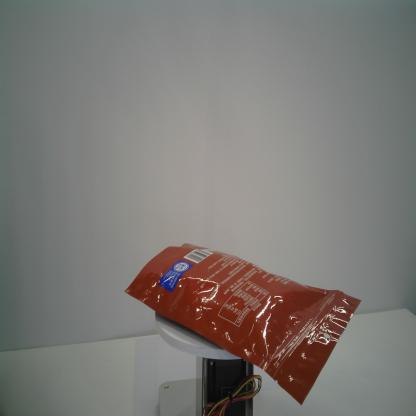Dried Food: (123, 243, 362, 405)
